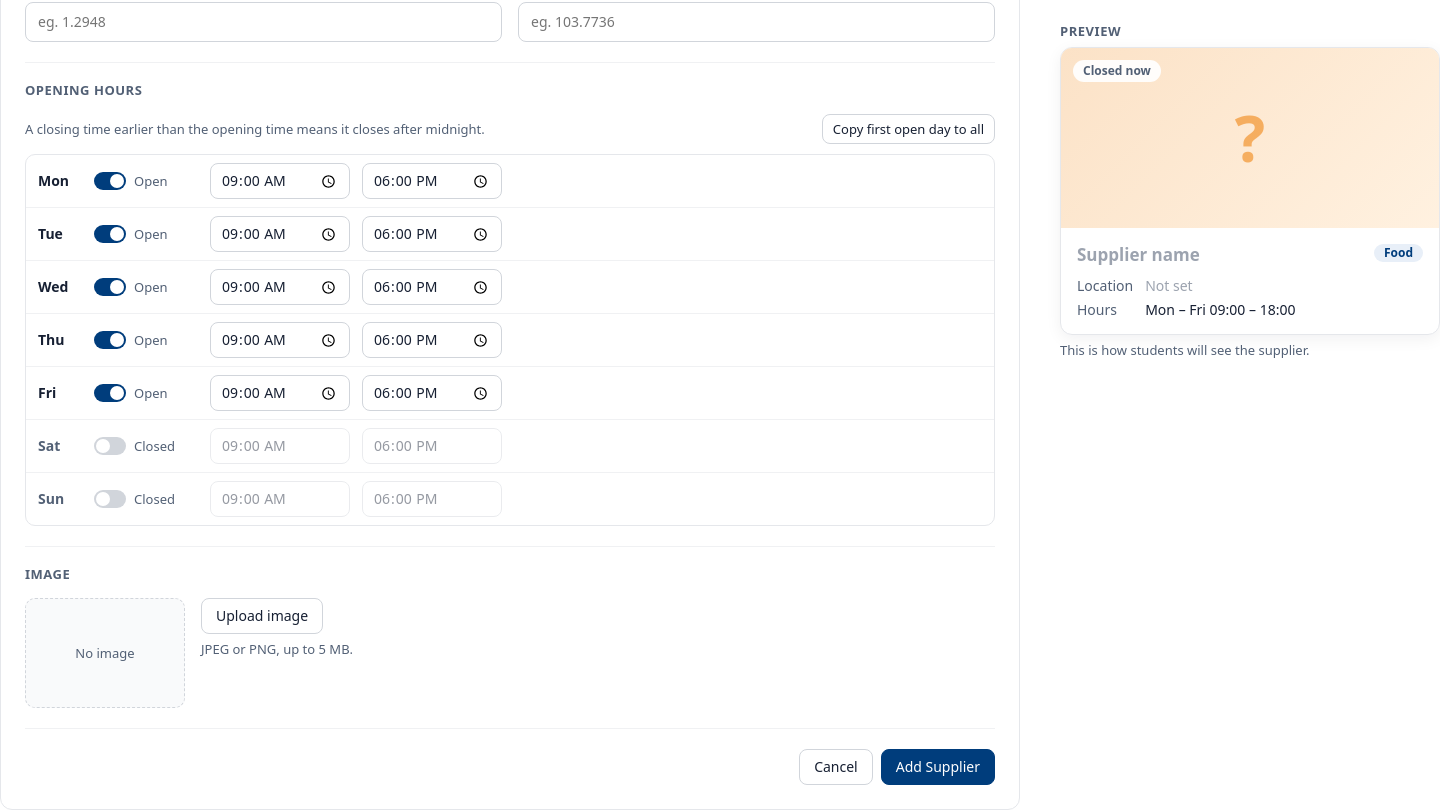
SupplierForm › shows validation errors and does not submit an empty form
The image size is (1440, 810).
(page scrolled)
Click the button "Add Supplier": x=938, y=767 top-left (881, 749), bottom-right (995, 785)
(page scrolled)
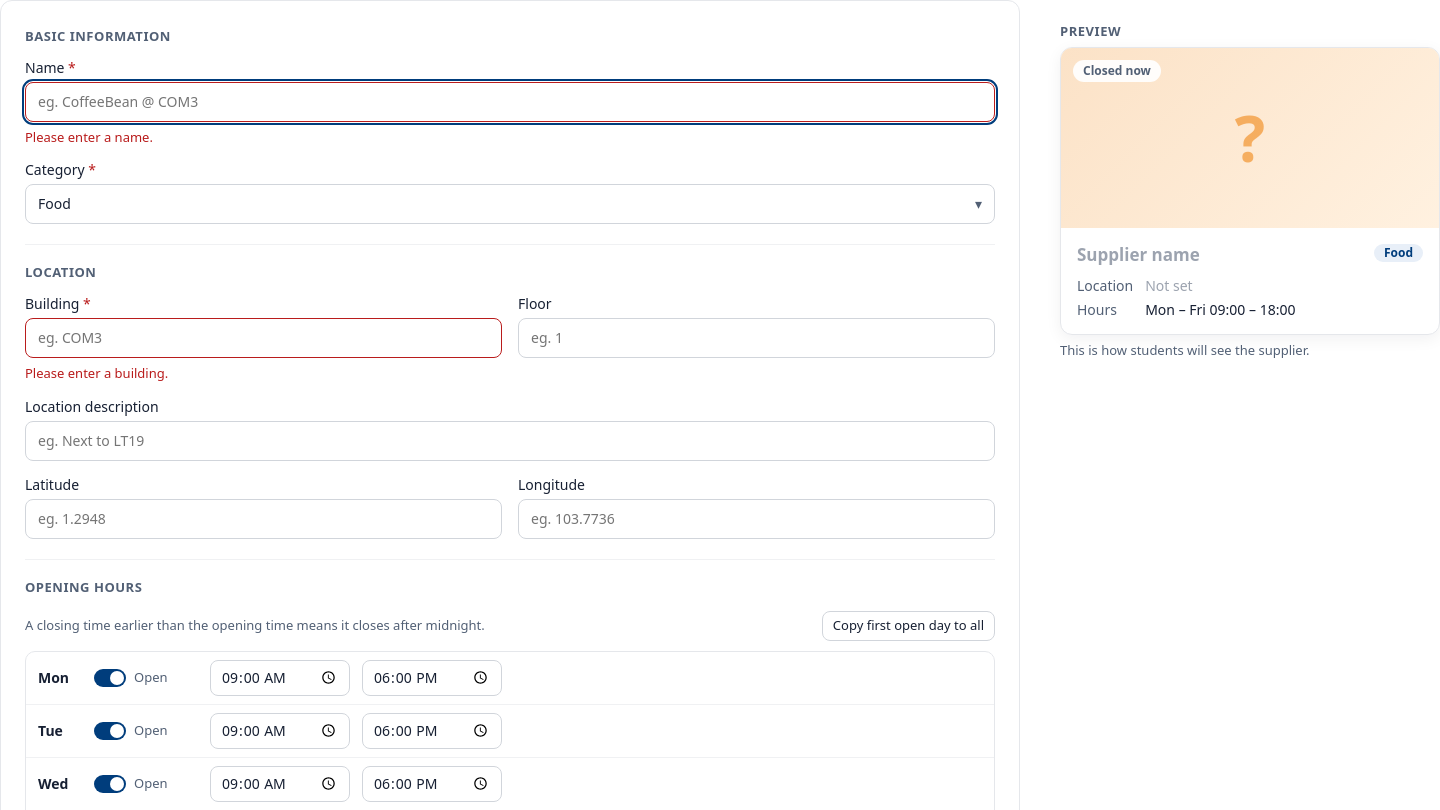
expect the text "Please enter a name." is shown: met, box top-left (25, 128), bottom-right (153, 146)
expect the text "Please enter a building." is shown: met, box top-left (25, 364), bottom-right (168, 382)
